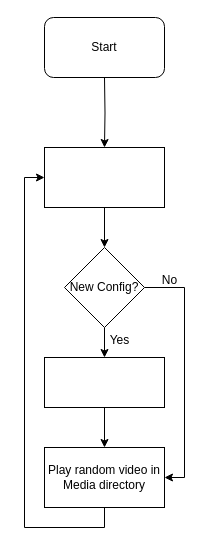
This 210x553 diagram has some shape labels left out. Here are the shapes that lost their labels. From the top down, the box of each, then its label:
(44, 146, 164, 208): Sleep for N amount of time
(44, 356, 164, 408): Pull new config
